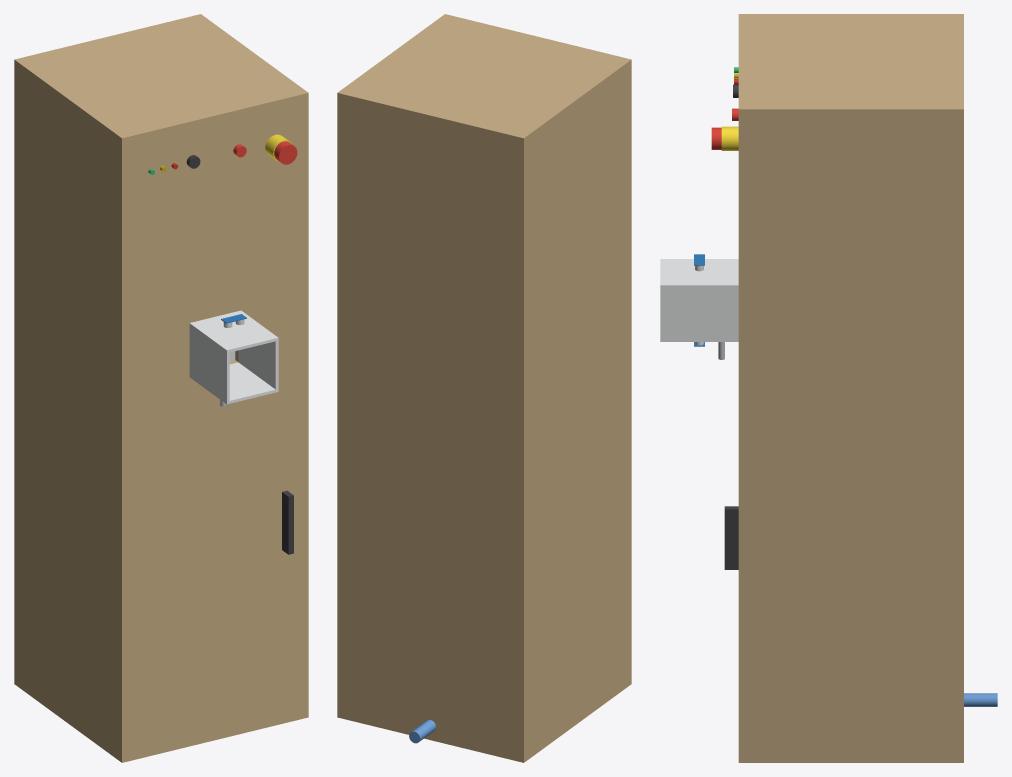
The model's file is compactor_bin.glb.
3 views of the same model, side by side, from view 1: azimuth 30°, elevation 25°; view 2: azimuth 150°, elevation 25°; view 3: azimuth 270°, elevation 25° (orthographic). The views are drawn at different scales.
Parts seen in each view (by area): view 1: wall_left, door, front_housing, top, front_base, front_chamber_left, wall_right, front_chamber_right, slot_tube_top, slot_tube_left, slot_tube_bottom, slot_tube_right (+3 smaller); view 2: wall_back, wall_left, top, wall_right; view 3: wall_right, top, slot_tube_right, slot_tube_top, door_handle, wall_left, wall_back.
Boxes of the visible parts, x1,y1,x2,y2 form: wall_left: [14, 58, 127, 762]; door: [127, 371, 302, 703]; front_housing: [127, 100, 302, 316]; top: [14, 17, 308, 143]; front_base: [127, 661, 302, 761]; front_chamber_left: [127, 301, 192, 413]; wall_right: [196, 14, 308, 718]; front_chamber_right: [235, 274, 302, 376]; slot_tube_top: [189, 310, 278, 352]; slot_tube_left: [189, 326, 229, 401]; slot_tube_bottom: [189, 362, 278, 404]; slot_tube_right: [238, 340, 278, 389]; wall_back: [343, 92, 520, 761]; wall_left: [518, 58, 631, 762]; top: [337, 15, 631, 143]; wall_right: [337, 14, 449, 718]; wall_right: [738, 106, 963, 762]; top: [738, 16, 963, 115]; slot_tube_right: [660, 288, 738, 338]; slot_tube_top: [660, 259, 738, 288]; door_handle: [724, 506, 738, 569]; wall_left: [738, 14, 963, 16]; wall_back: [957, 16, 963, 106].
Size of the model in its own units: 0.404 by 1.29 by 0.604.
